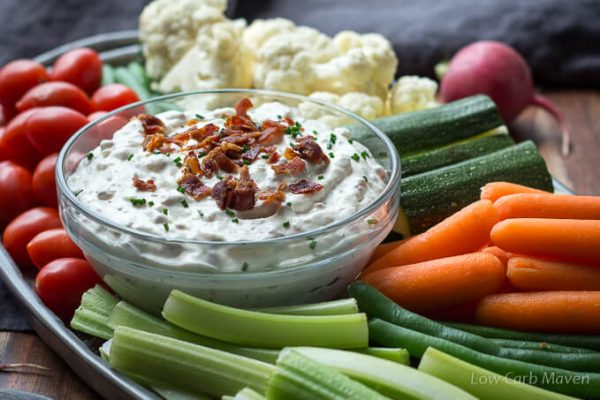bacon: (187, 111, 297, 197)
